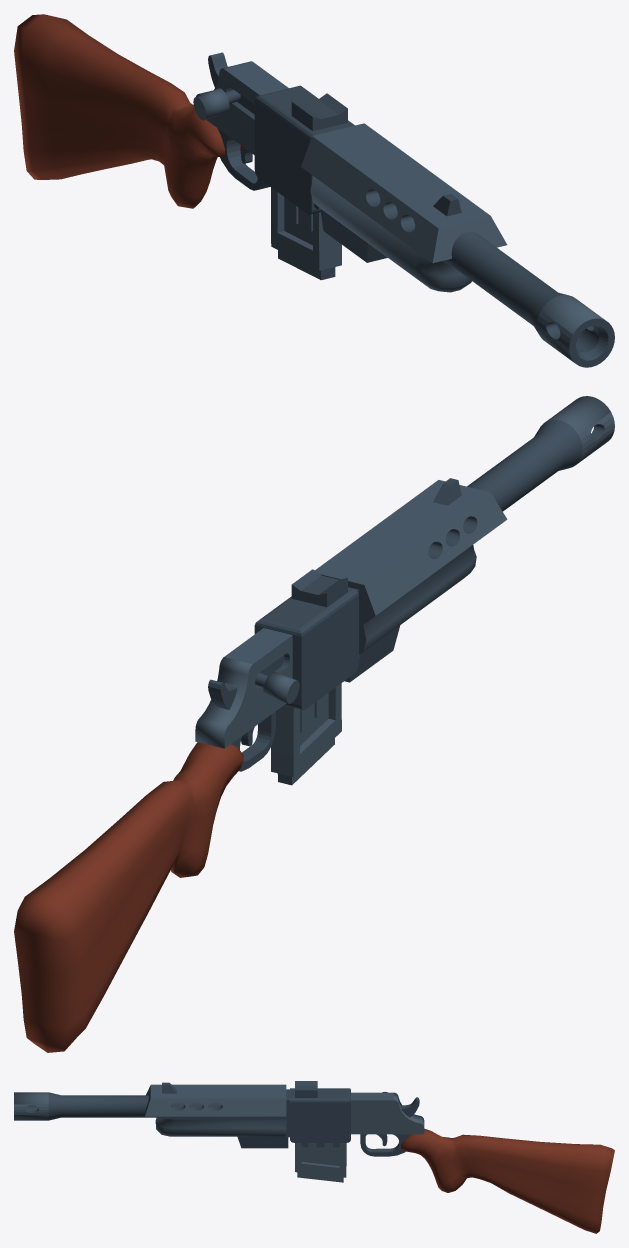
The model's file is rifle.glb.
The picture shows the model from 3 angles, top to bottom: view 1: azimuth 30°, elevation 25°; view 2: azimuth 150°, elevation 25°; view 3: azimuth 270°, elevation 25°; orthographic projection. The views are drawn at different scales.
Visible parts, largest first — view 1: rifle; view 2: rifle; view 3: rifle.
Boxes of the visible parts, left/top/right/bottom form: rifle: left=14, top=14, right=614, bottom=367; rifle: left=14, top=396, right=614, bottom=1052; rifle: left=14, top=1081, right=614, bottom=1233.
Bounding box in the file's own units: 0.2793 × 0.862 × 3.17.
